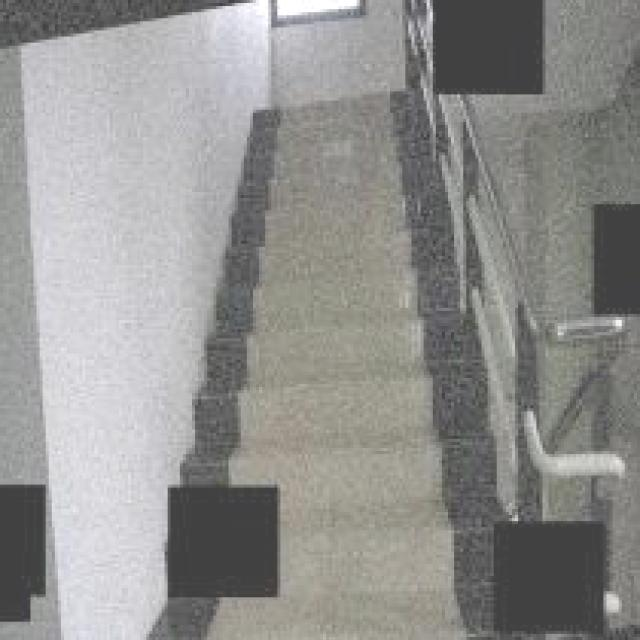upstair: (181, 102, 501, 467)
